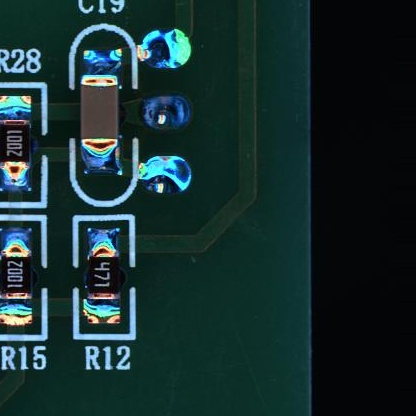spot: (138, 26, 193, 70), (139, 153, 193, 197), (141, 93, 192, 132)
